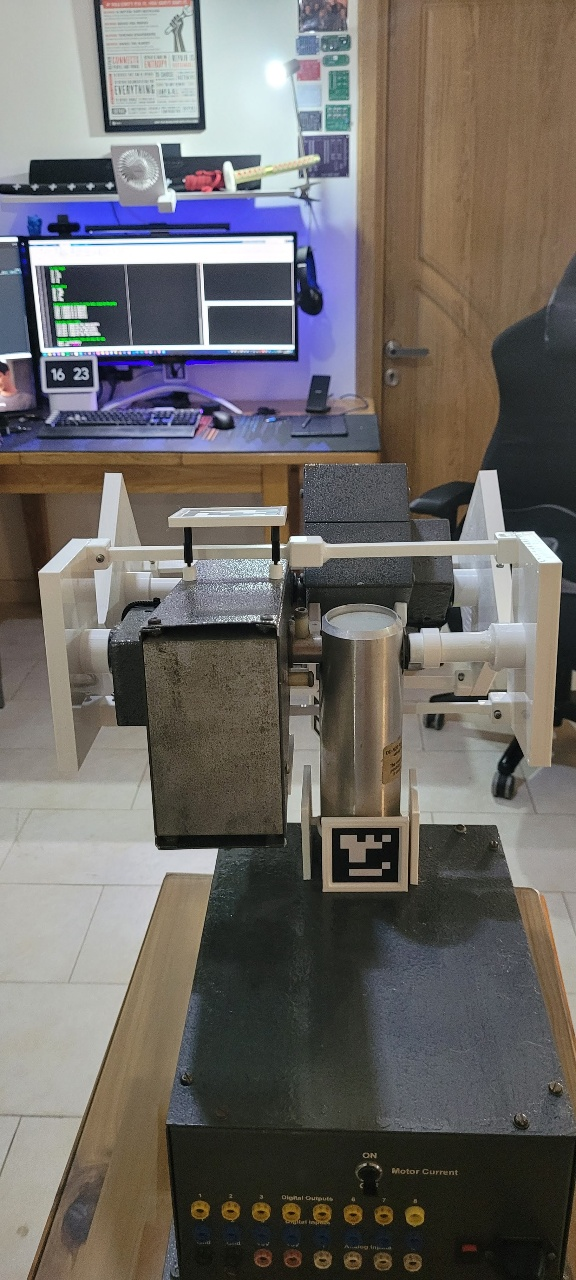Robot: (33, 459, 567, 901)
